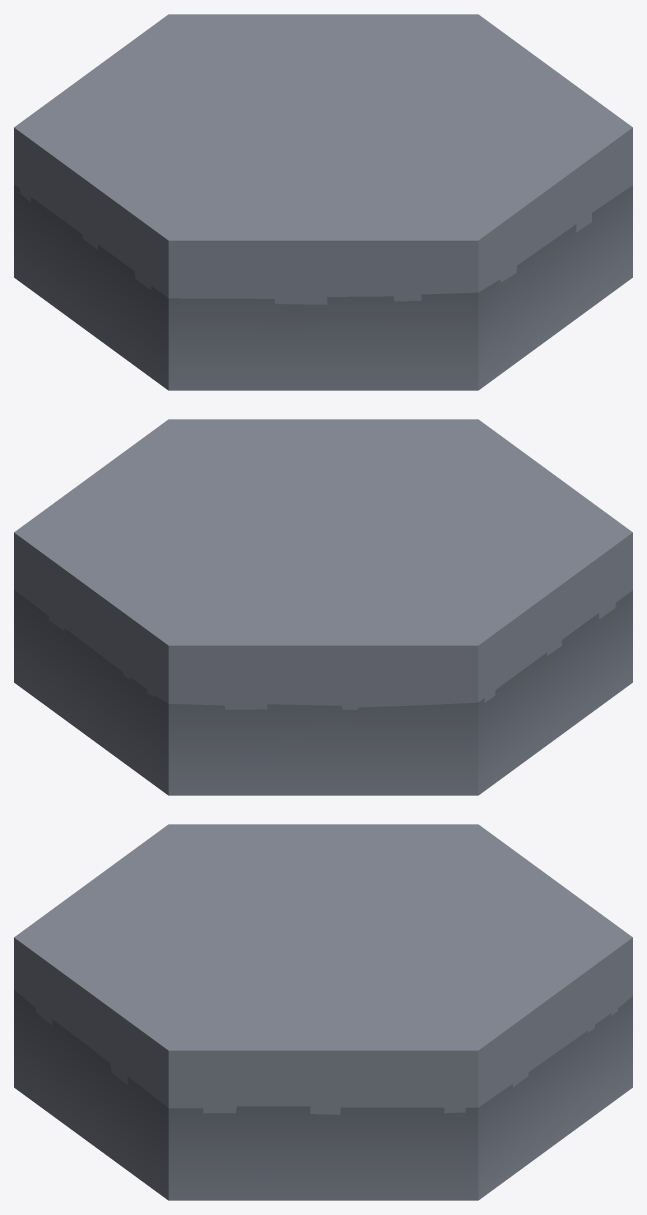
File: Grade_2.fbx
3 views of the same model, one above another, from view 1: azimuth 30°, elevation 25°; view 2: azimuth 150°, elevation 25°; view 3: azimuth 270°, elevation 25° (orthographic).
Parts seen in each view (by area): view 1: Grade_2; view 2: Grade_2; view 3: Grade_2.
Boxes of the visible parts, bbox=[...] form: Grade_2: bbox=[14, 14, 632, 390]; Grade_2: bbox=[14, 419, 632, 795]; Grade_2: bbox=[14, 824, 632, 1200].
Size of the model in its own units: 1.73 by 2 by 0.5351.
